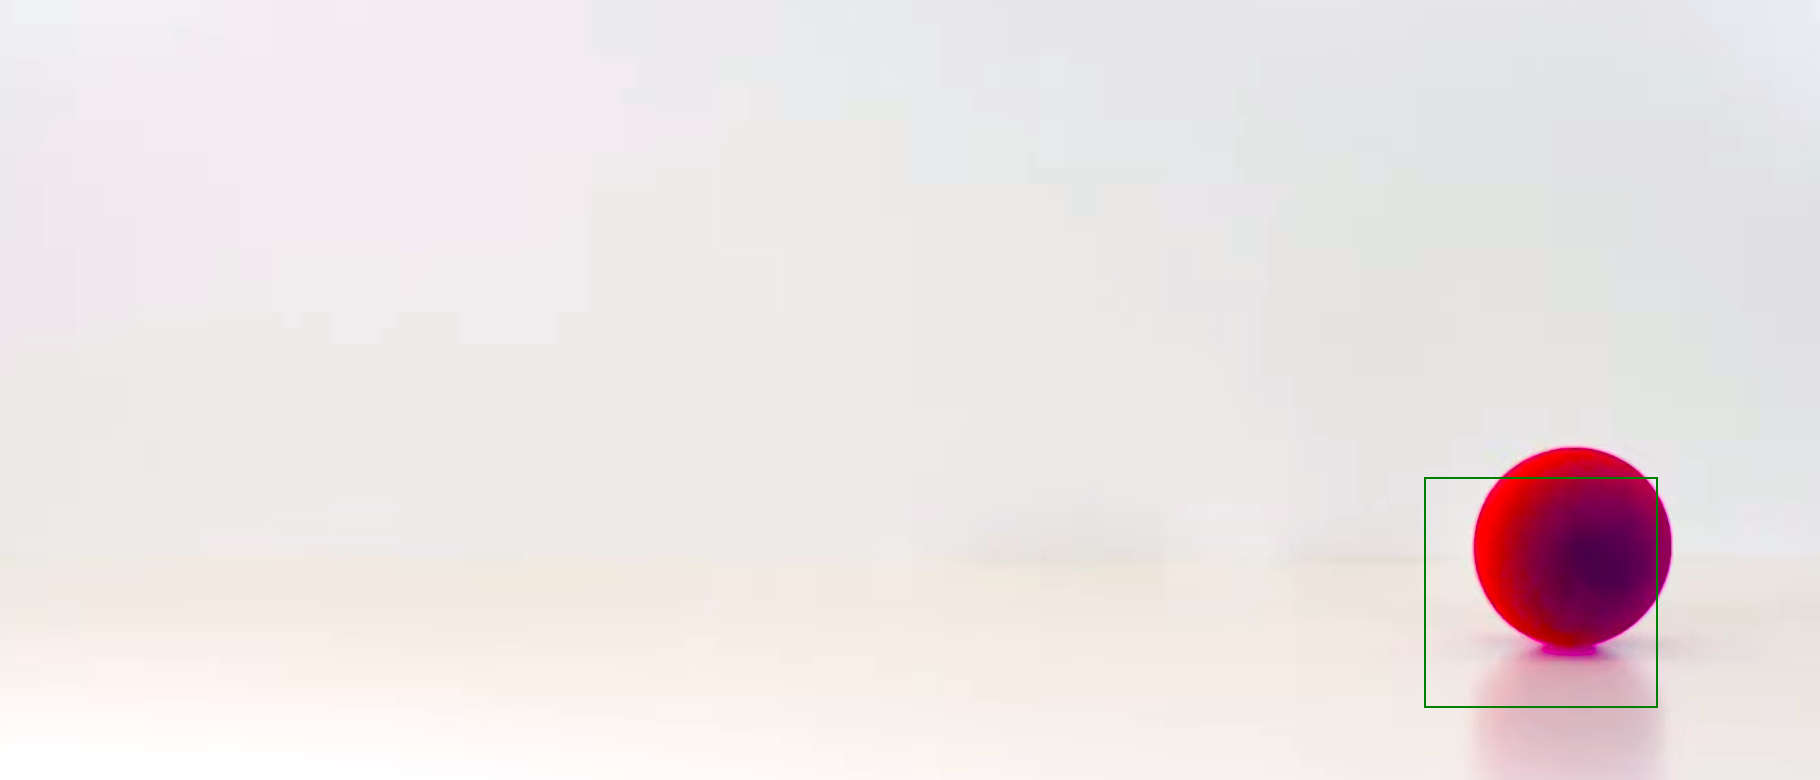Circle: (1472, 446, 1674, 649)
